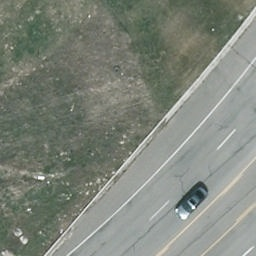car: (172, 186, 209, 223)
